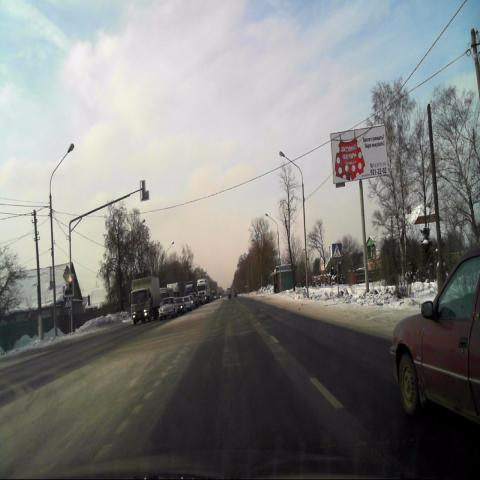5_19_1: (332, 243, 342, 260)
